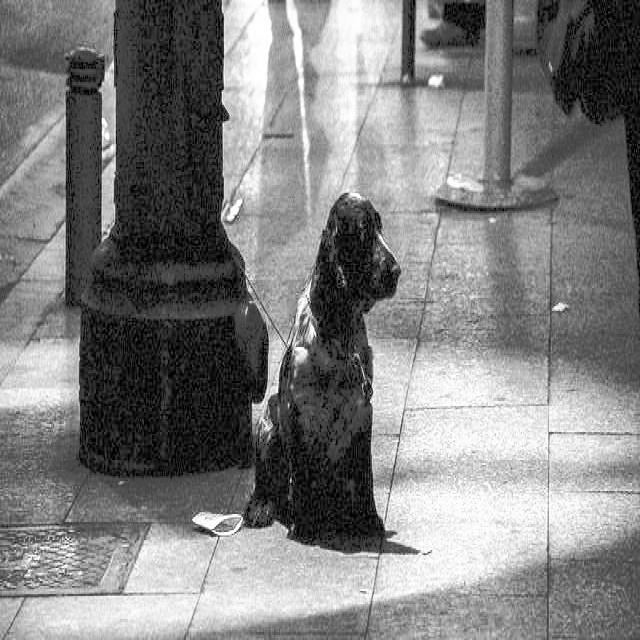Dog: (252, 190, 411, 558)
